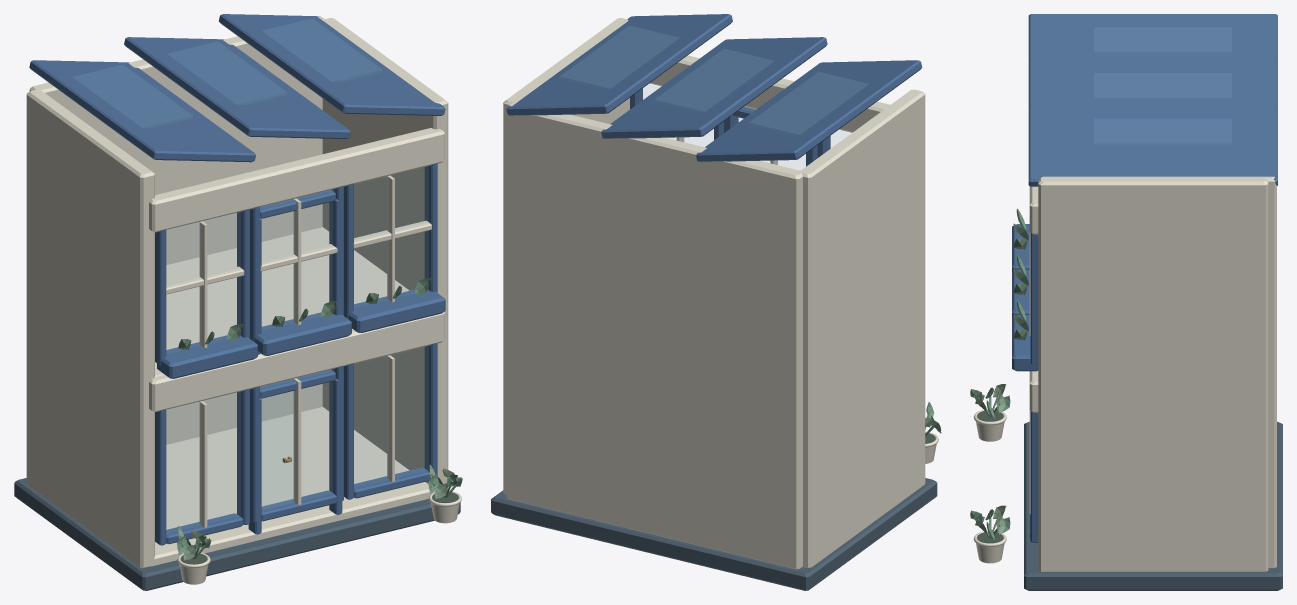
Rendered from v18_buildings_gallery.glb.
The picture shows the model from 3 angles, left to right: view 1: azimuth 30°, elevation 25°; view 2: azimuth 150°, elevation 25°; view 3: azimuth 270°, elevation 25°; orthographic projection.
Visible parts, largest first — view 1: _MeshInstance3D_4100, _MeshInstance3D_4101, _MeshInstance3D_4103, _MeshInstance3D_4102, _MeshInstance3D_4128, _MeshInstance3D_4173, _MeshInstance3D_4171, _MeshInstance3D_4175, _MeshInstance3D_4127, _MeshInstance3D_4099, _MeshInstance3D_4104, _MeshInstance3D_4135 (+31 smaller); view 2: _MeshInstance3D_4102, _MeshInstance3D_4100, _MeshInstance3D_4171, _MeshInstance3D_4173, _MeshInstance3D_4175, _MeshInstance3D_4099, _MeshInstance3D_4101, _MeshInstance3D_4128; view 3: _MeshInstance3D_4101, _MeshInstance3D_4175, _MeshInstance3D_4173, _MeshInstance3D_4171, _MeshInstance3D_4099, _MeshInstance3D_4102, _MeshInstance3D_4116, _MeshInstance3D_4156, _MeshInstance3D_4161, _MeshInstance3D_4148, _MeshInstance3D_4135, _MeshInstance3D_4128 (+3 smaller).
Part boxes in pixels (x1=…): _MeshInstance3D_4100: x1=26, y1=89, x2=154, y2=567; _MeshInstance3D_4101: x1=322, y1=18, x2=448, y2=489; _MeshInstance3D_4103: x1=150, y1=407, x2=435, y2=566; _MeshInstance3D_4102: x1=29, y1=16, x2=324, y2=444; _MeshInstance3D_4128: x1=149, y1=128, x2=445, y2=232; _MeshInstance3D_4173: x1=124, y1=37, x2=350, y2=138; _MeshInstance3D_4171: x1=29, y1=60, x2=255, y2=162; _MeshInstance3D_4175: x1=219, y1=14, x2=445, y2=115; _MeshInstance3D_4127: x1=155, y1=227, x2=409, y2=376; _MeshInstance3D_4099: x1=14, y1=478, x2=460, y2=590; _MeshInstance3D_4104: x1=149, y1=312, x2=445, y2=411; _MeshInstance3D_4135: x1=157, y1=335, x2=257, y2=378; _MeshInstance3D_4102: x1=506, y1=102, x2=802, y2=569; _MeshInstance3D_4100: x1=800, y1=89, x2=925, y2=567; _MeshInstance3D_4171: x1=696, y1=60, x2=922, y2=161; _MeshInstance3D_4173: x1=601, y1=37, x2=827, y2=138; _MeshInstance3D_4175: x1=506, y1=14, x2=732, y2=115; _MeshInstance3D_4099: x1=491, y1=478, x2=937, y2=590; _MeshInstance3D_4101: x1=503, y1=18, x2=629, y2=494; _MeshInstance3D_4128: x1=649, y1=55, x2=890, y2=132; _MeshInstance3D_4101: x1=1038, y1=176, x2=1268, y2=571; _MeshInstance3D_4175: x1=1028, y1=105, x2=1277, y2=186; _MeshInstance3D_4173: x1=1028, y1=59, x2=1277, y2=106; _MeshInstance3D_4171: x1=1028, y1=14, x2=1277, y2=60; _MeshInstance3D_4099: x1=1024, y1=421, x2=1282, y2=590; _MeshInstance3D_4102: x1=1264, y1=176, x2=1276, y2=568; _MeshInstance3D_4116: x1=1030, y1=411, x2=1038, y2=542; _MeshInstance3D_4156: x1=1030, y1=233, x2=1038, y2=364; _MeshInstance3D_4161: x1=1012, y1=315, x2=1038, y2=371; _MeshInstance3D_4148: x1=1012, y1=269, x2=1029, y2=316; _MeshInstance3D_4135: x1=1012, y1=224, x2=1029, y2=271; _MeshInstance3D_4128: x1=1029, y1=186, x2=1038, y2=234.
Size of the model in its own units: 4.74 by 6.19 by 4.06.
